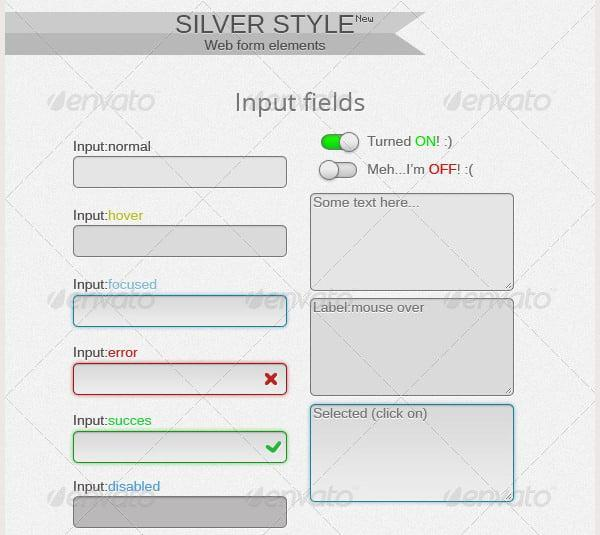input: (312, 300, 516, 396), (313, 193, 514, 290), (312, 407, 515, 503), (73, 157, 287, 189), (75, 497, 288, 529), (74, 226, 288, 257), (75, 296, 288, 327), (75, 364, 287, 395), (75, 433, 287, 464)
label: (365, 162, 482, 182), (367, 135, 457, 152), (74, 479, 162, 494), (72, 277, 159, 291), (72, 413, 153, 428), (72, 140, 157, 154), (72, 209, 146, 222), (72, 345, 140, 359)
switch: (320, 159, 363, 182), (321, 132, 363, 155)
